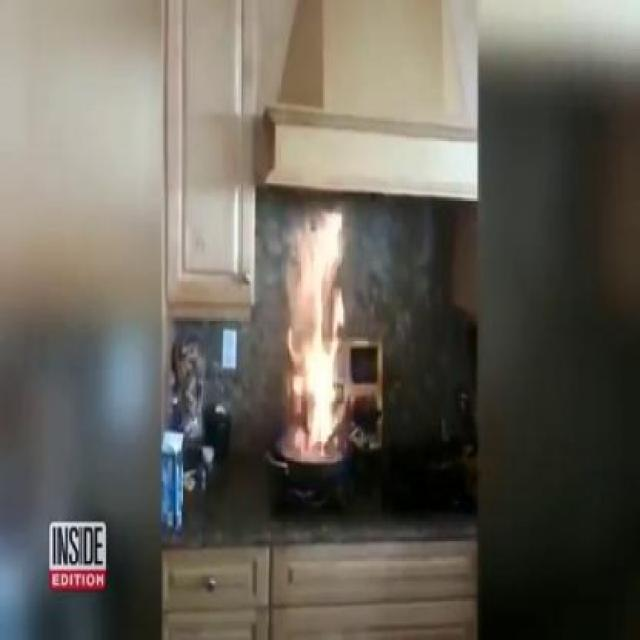fire: (266, 193, 346, 461)
